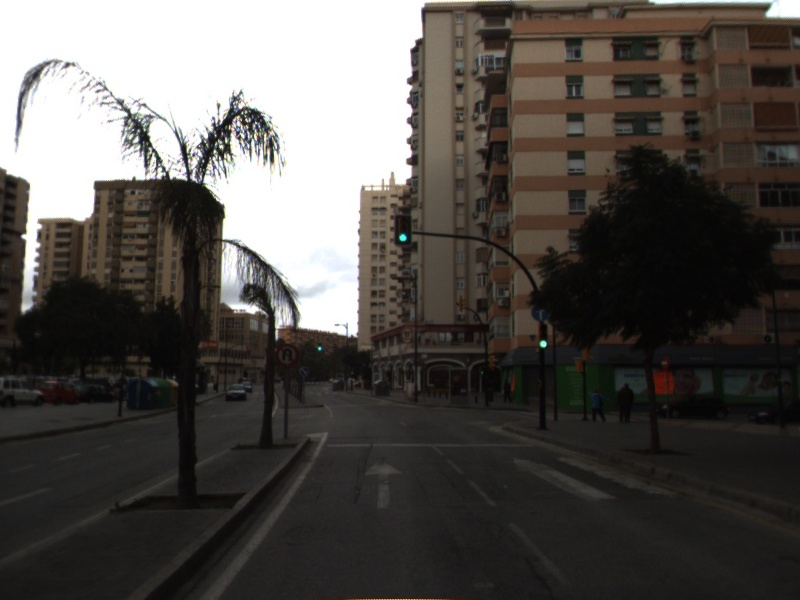STRAIGHT: (362, 455, 406, 513)
